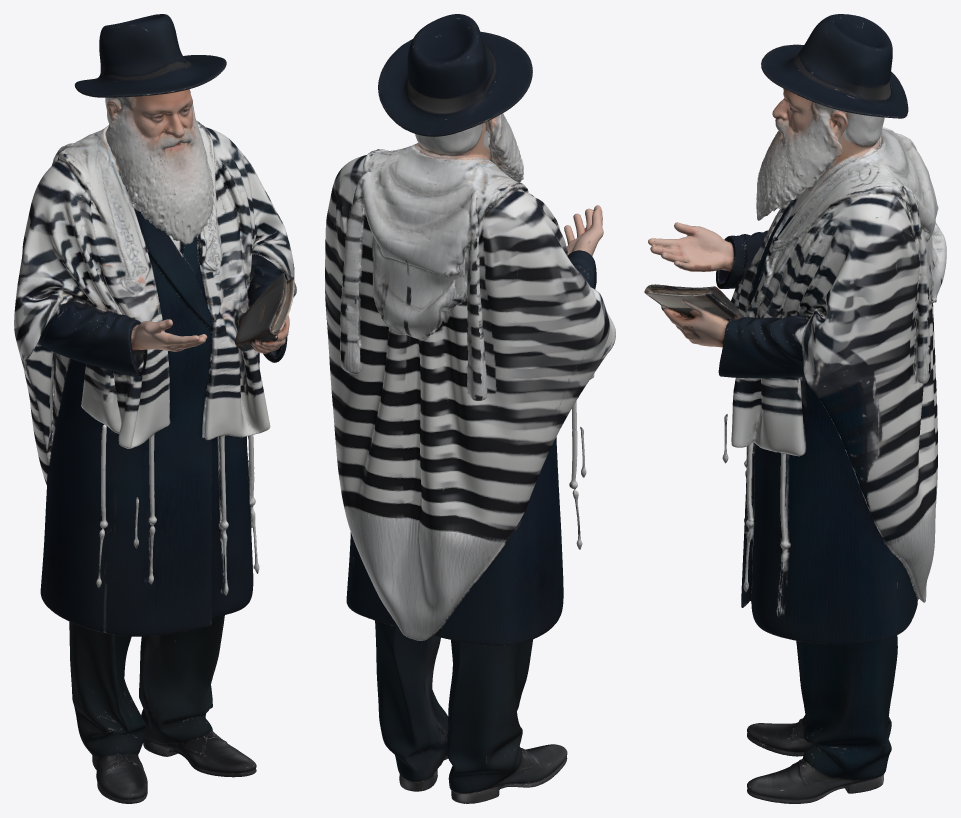
File: Meshy_AI_the_rebbe_0131194058_texture.glb
3 renders of one model, left to right at view 1: azimuth 30°, elevation 25°; view 2: azimuth 150°, elevation 25°; view 3: azimuth 270°, elevation 25°, orthographic. The views are drawn at different scales.
Bounding box in the file's own units: 0.7637 × 2 × 0.7278.
Materials: 1 (1 with a texture image).
